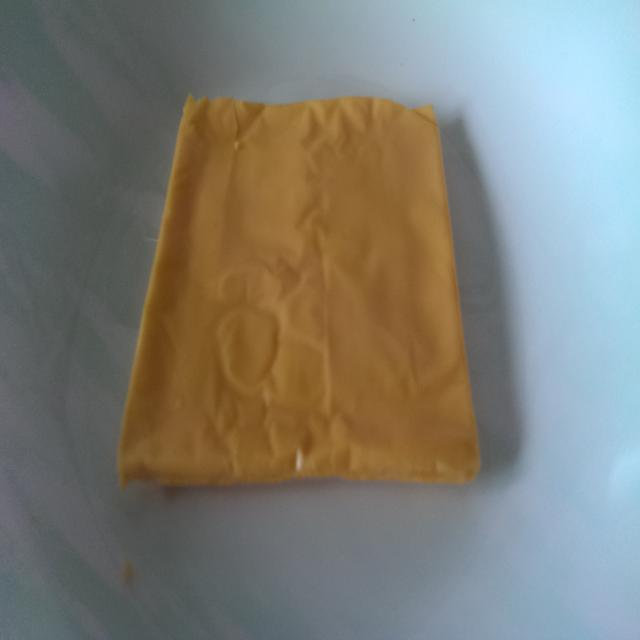cheese: (60, 73, 490, 615)
